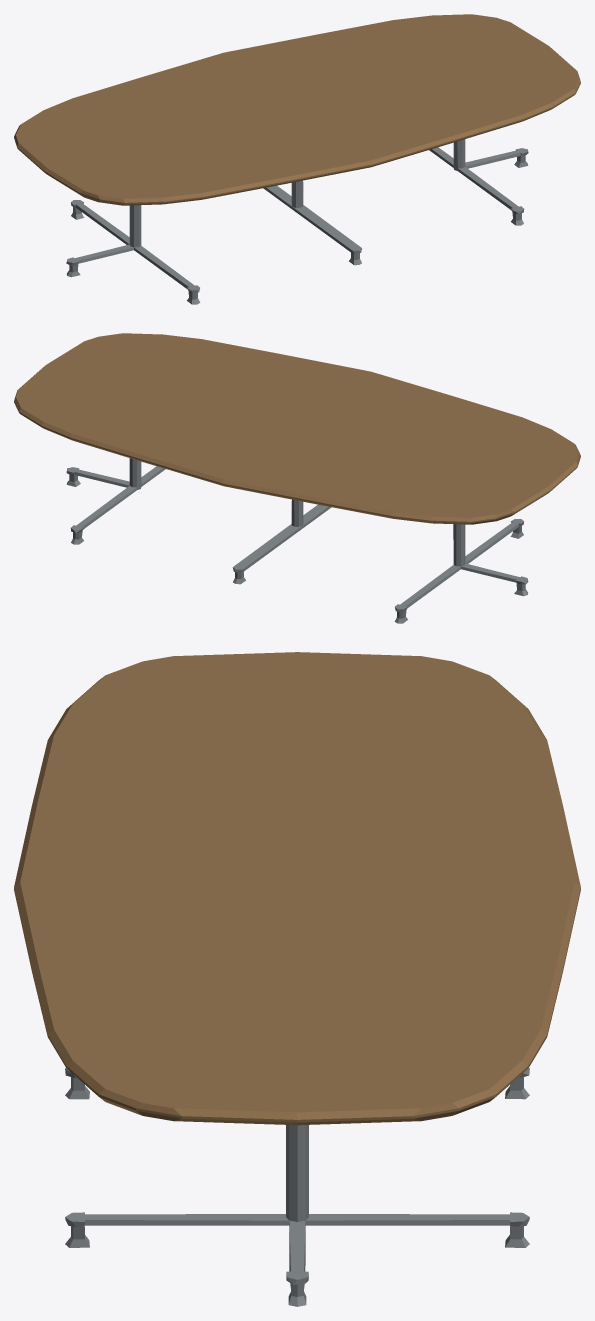
File: LargeTable_LP.fbx
3 renders of one model, top to bottom at view 1: azimuth 30°, elevation 25°; view 2: azimuth 150°, elevation 25°; view 3: azimuth 270°, elevation 25°, orthographic. The views are drawn at different scales.
Visible parts, largest first — view 1: TableTop, TableLeg; view 2: TableTop, TableLeg; view 3: TableTop, TableLeg.
Part boxes in pixels (x1=…): TableTop: x1=14, y1=14, x2=580, y2=205; TableLeg: x1=66, y1=139, x2=528, y2=304; TableTop: x1=14, y1=333, x2=580, y2=524; TableLeg: x1=66, y1=458, x2=528, y2=623; TableTop: x1=14, y1=652, x2=580, y2=1125; TableLeg: x1=65, y1=1068, x2=529, y2=1306.
Size of the model in its own units: 1941 by 1000 by 415.
